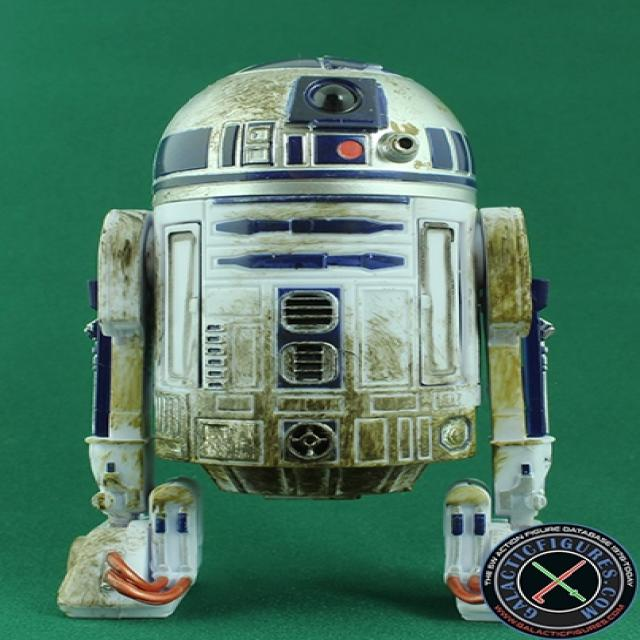r2-d2: (55, 55, 548, 538)
